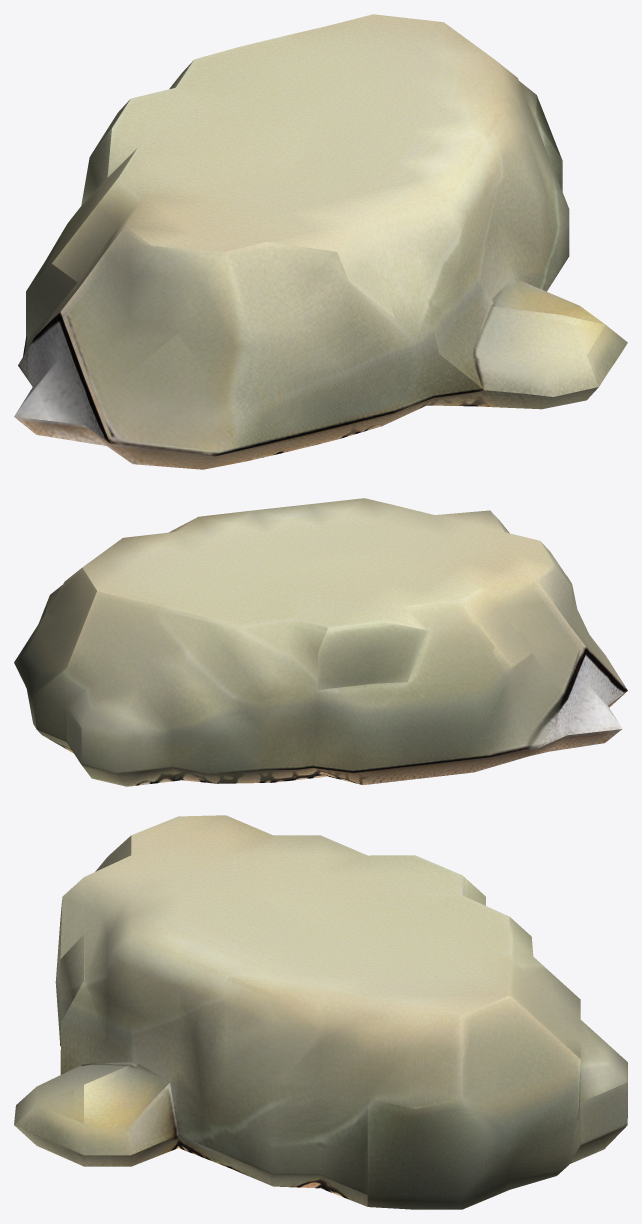
The model's file is rock_3.glb.
The picture shows the model from 3 angles, top to bottom: view 1: azimuth 30°, elevation 25°; view 2: azimuth 150°, elevation 25°; view 3: azimuth 270°, elevation 25°; orthographic projection. The views are drawn at different scales.
Parts seen in each view (by area): view 1: tmp32u70qz0.ply; view 2: tmp32u70qz0.ply; view 3: tmp32u70qz0.ply.
Part boxes in pixels (<box>): tmp32u70qz0.ply: <box>14,14,627,469</box>; tmp32u70qz0.ply: <box>14,498,627,786</box>; tmp32u70qz0.ply: <box>14,815,627,1209</box>.
Bounding box in the file's own units: 1.66 × 0.4848 × 1.54.
Materials: 1 (1 with a texture image).
